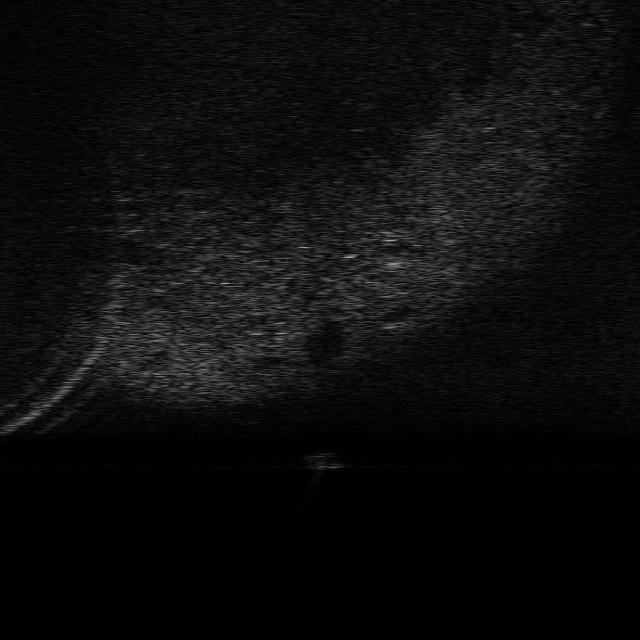cube: (305, 454, 344, 470)
